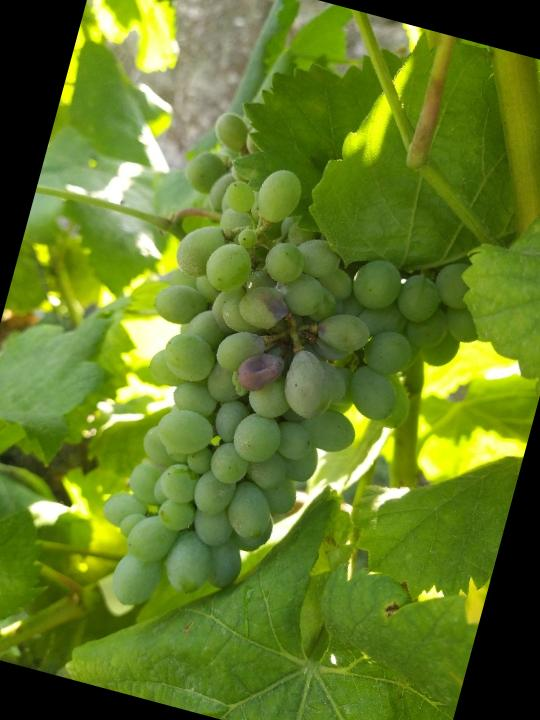grape: (75, 110, 516, 675)
